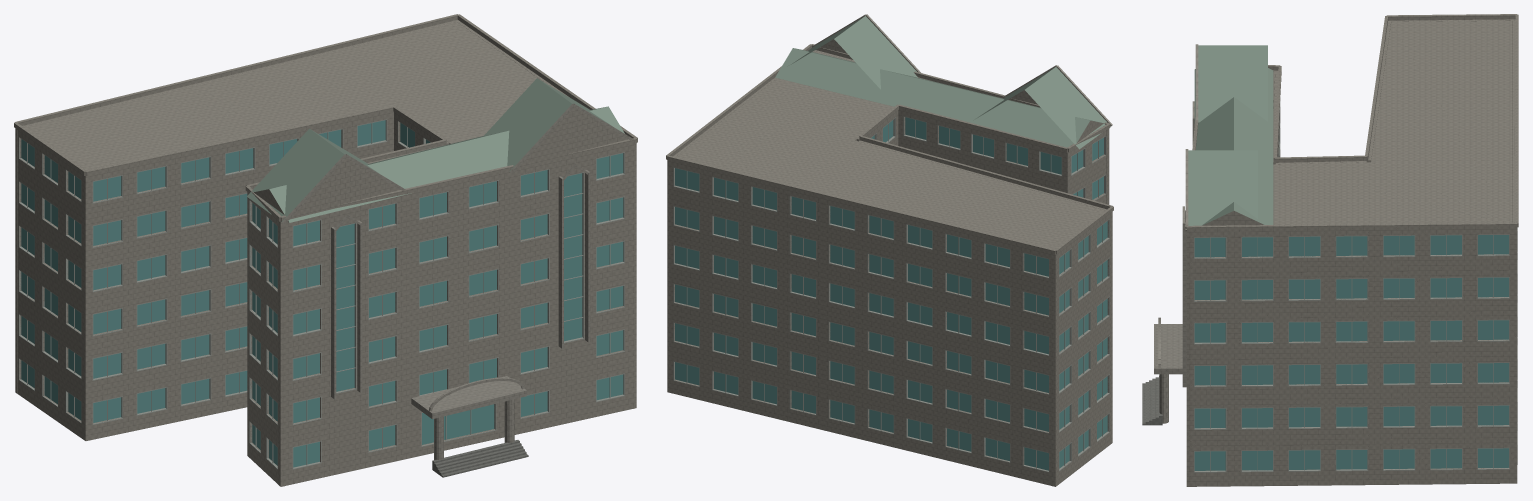
The picture shows the model from 3 angles, left to right: view 1: azimuth 30°, elevation 25°; view 2: azimuth 150°, elevation 25°; view 3: azimuth 270°, elevation 25°; orthographic projection. The views are drawn at different scales.
Parts seen in each view (by area): view 1: nursing__stone, nursing__glass, nursing__frame, nursing__roof, nursing__cream, nursing__rough; view 2: nursing__stone, nursing__glass, nursing__roof, nursing__frame, nursing__cream; view 3: nursing__stone, nursing__glass, nursing__roof, nursing__frame, nursing__cream, nursing__rough.
Boxes of the visible parts, <box> form: nursing__stone: <box>14,14,637,486</box>; nursing__glass: <box>21,120,623,467</box>; nursing__frame: <box>18,119,624,469</box>; nursing__roof: <box>247,78,624,222</box>; nursing__cream: <box>282,103,637,460</box>; nursing__rough: <box>432,440,528,477</box>; nursing__stone: <box>666,39,1113,486</box>; nursing__glass: <box>675,117,1107,470</box>; nursing__roof: <box>775,16,1110,149</box>; nursing__frame: <box>673,116,1109,472</box>; nursing__cream: <box>814,14,1112,126</box>; nursing__stone: <box>1185,14,1518,486</box>; nursing__glass: <box>1194,235,1508,470</box>; nursing__roof: <box>1188,45,1273,225</box>; nursing__frame: <box>1194,101,1517,472</box>; nursing__cream: <box>1154,44,1198,423</box>; nursing__rough: <box>1142,376,1162,425</box>.
Size of the model in its own units: 44.96 by 30.29 by 33.56.
Materials: 6 (3 with a texture image).
